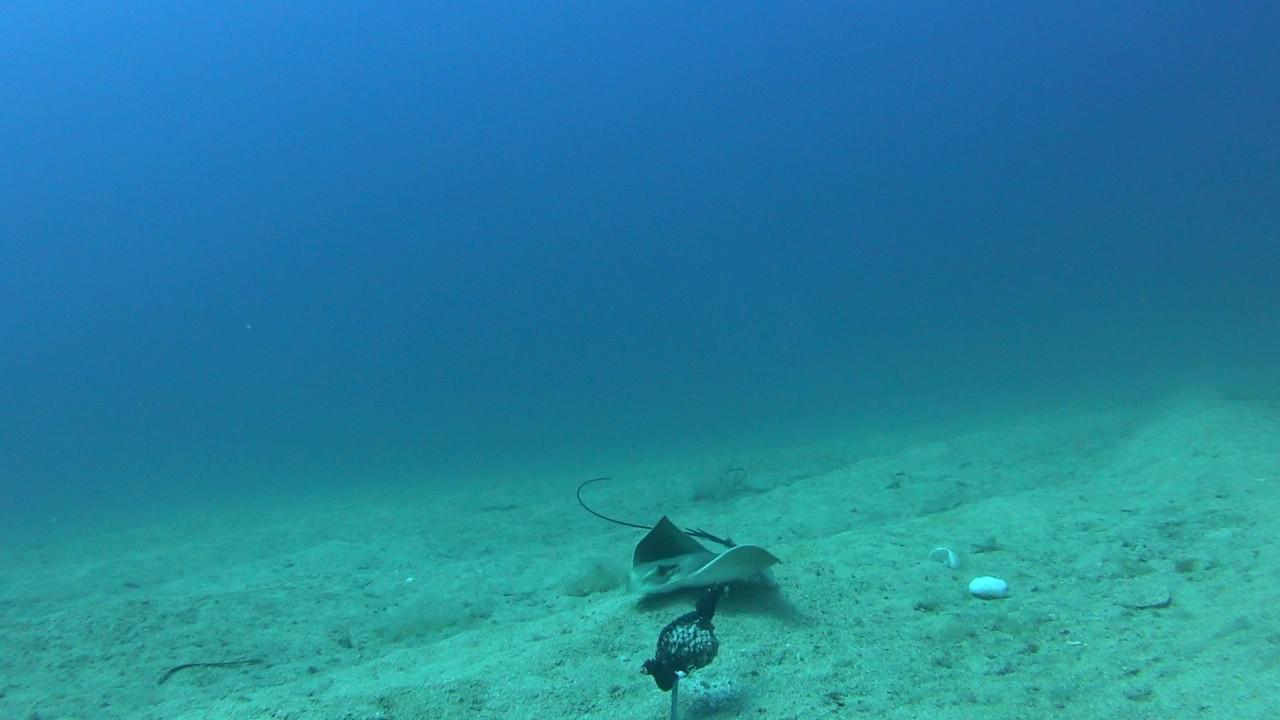myliobatis: (556, 461, 789, 607)
